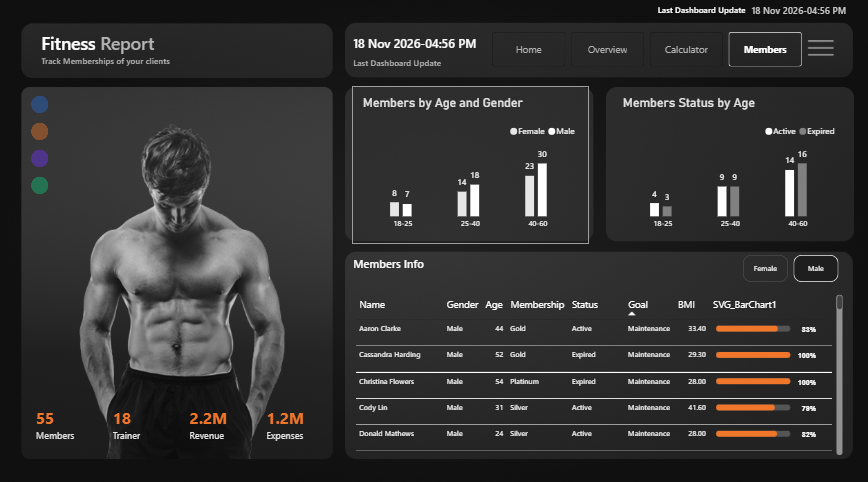

Layout of this report page (visuals, bound fields, positions):
{"tool":"powerbi","page":{"name":"Members","canvas":[1280,720],"ordinal":3},"visuals":[{"type":"tableEx","fields":{"Values":["Users.UserName","Users.Gender","Sum(Users.Age)","Users.Membership","Users.Status","Users.Goal","Sum(Users.BMI)","_Measures.SVG_BarChart1"]},"box":[507.5,419.3,737.3,261.7],"z":1000},{"type":"shape","box":[68,44.8,95.4,49.2],"z":2000},{"type":"shape","box":[153.3,44.8,95.4,49.2],"z":3000},{"type":"shape","box":[68,69.4,224.1,49.2],"z":4000},{"type":"card","fields":{"Values":["_Measures.Last_Refresh"]},"box":[1072.8,1.4,185.1,49.2],"z":5000},{"type":"shape","box":[519,44.8,271.8,49.2],"z":6000},{"type":"shape","box":[519,72.3,224.1,49.2],"z":7000},{"type":"image","box":[1165.3,53.5,65.1,47.7],"z":8000},{"type":"pageNavigator","box":[721.4,53.5,448.2,50.6],"z":9000},{"type":"shape","box":[960,4.3,173.5,31.8],"z":10000},{"type":"shape","box":[519,360,164.8,54.9],"z":11000},{"type":"advancedSlicerVisual","fields":{"Values":["Users.Gender"]},"box":[1084.3,375.9,138.8,39],"z":12000},{"type":"lineClusteredColumnComboChart","title":"Members by Age and Gender","fields":{"Category":["Users.Age_Category"],"Series":["Users.Gender"],"Y":["_Measures.User_Counts"]},"box":[519,131.6,342.7,228.4],"z":13000},{"type":"lineClusteredColumnComboChart","title":"Members Status by Age ","fields":{"Category":["Users.Age_Category"],"Series":["Users.Status"],"Y":["_Measures.User_Counts"]},"box":[894.9,131.6,342.7,228.4],"z":14000},{"type":"advancedSlicerVisual","fields":{"Values":["ColorCodes.Icon"]},"box":[47.7,143.1,40.5,151.8],"z":14001},{"type":"cardVisual","fields":{"Data":["_Measures.User_Counts","Count(Users.Trainer Name)","_Measures.Revenue","_Measures.Expense"]},"box":[46.3,581.2,439,80],"z":14002}]}

Visuals, with their boxes in screenshot pixels (x1, y1, x2, y2), scaled from the page's 1280x720 canvas onto the 868x482 screenshot:
tableEx - Users.UserName x Users.Gender: 344:281:844:456
shape: 46:30:111:63
shape: 104:30:169:63
shape: 46:46:198:79
card - _Measures.Last_Refresh: 727:1:853:34
shape: 352:30:536:63
shape: 352:48:504:81
image: 790:36:834:68
pageNavigator: 489:36:793:70
shape: 651:3:769:24
shape: 352:241:464:278
advancedSlicerVisual - Users.Gender: 735:252:829:278
"Members by Age and Gender" lineClusteredColumnComboChart: 352:88:584:241
"Members Status by Age " lineClusteredColumnComboChart: 607:88:839:241
advancedSlicerVisual - ColorCodes.Icon: 32:96:60:197
cardVisual - _Measures.User_Counts x Count(Users.Trainer Name): 31:389:329:443
